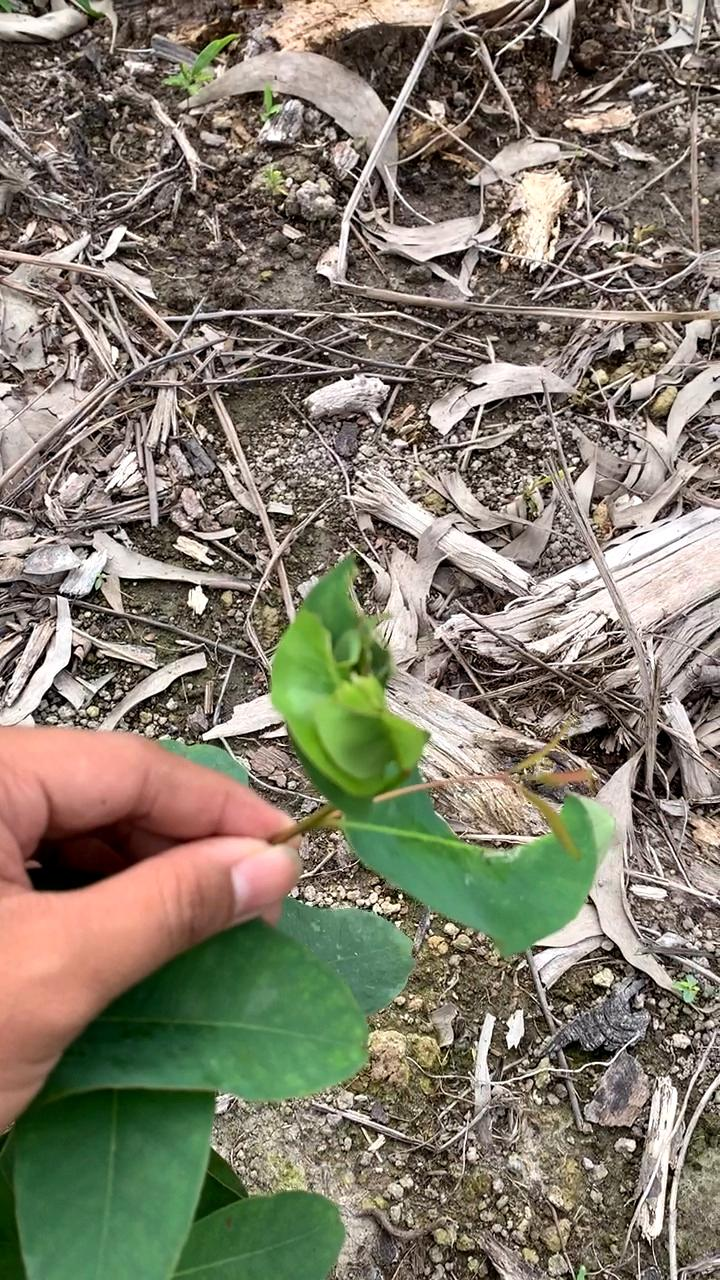Leaf Roller - Leaf: (280, 623, 431, 811)
